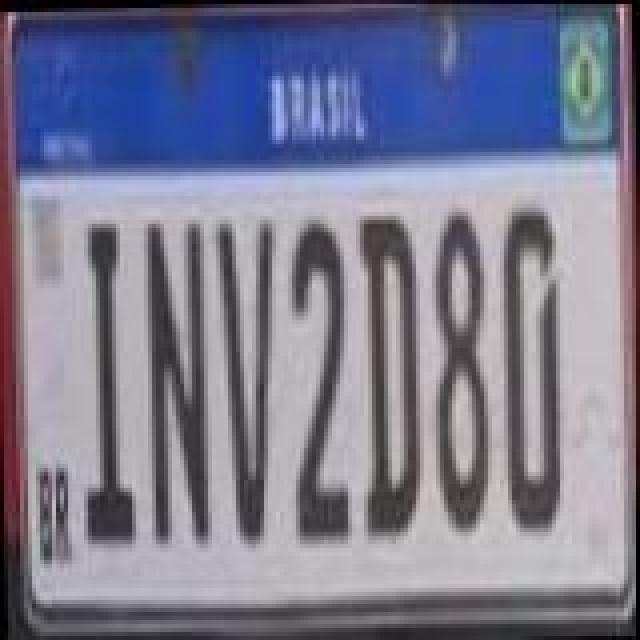2: (286, 212, 354, 544)
8: (426, 200, 494, 532)
D: (356, 210, 428, 542), (498, 206, 566, 538)
I: (72, 220, 136, 548)
N: (140, 214, 212, 550)
V: (214, 214, 282, 546)
